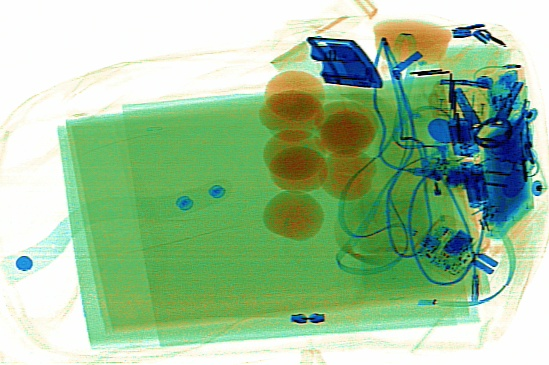lighter: (417, 155, 461, 249)
